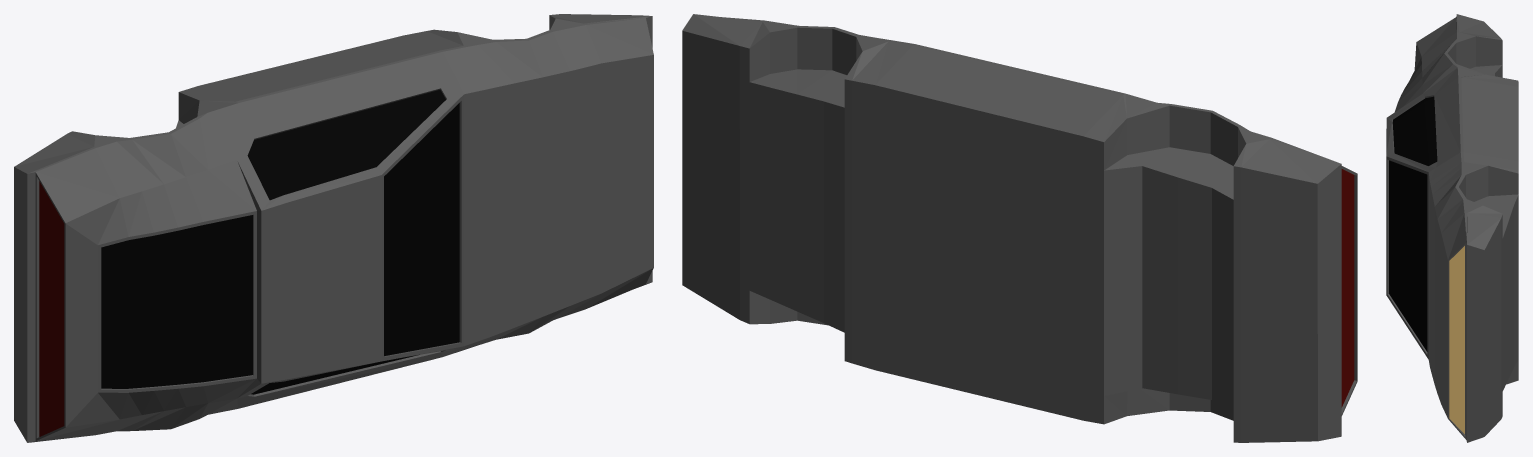
Rendered from delorianv2.gltf.
3 renders of one model, left to right at view 1: azimuth 30°, elevation 25°; view 2: azimuth 150°, elevation 25°; view 3: azimuth 270°, elevation 25°, orthographic. The views are drawn at different scales.
Parts seen in each view (by area): view 1: Cube; view 2: Cube; view 3: Cube.
Boxes of the visible parts, bbox=[...] form: Cube: bbox=[14, 14, 653, 442]; Cube: bbox=[682, 14, 1357, 442]; Cube: bbox=[1386, 14, 1518, 442].
Size of the model in its own units: 3.14 by 1.45 by 0.7657.
